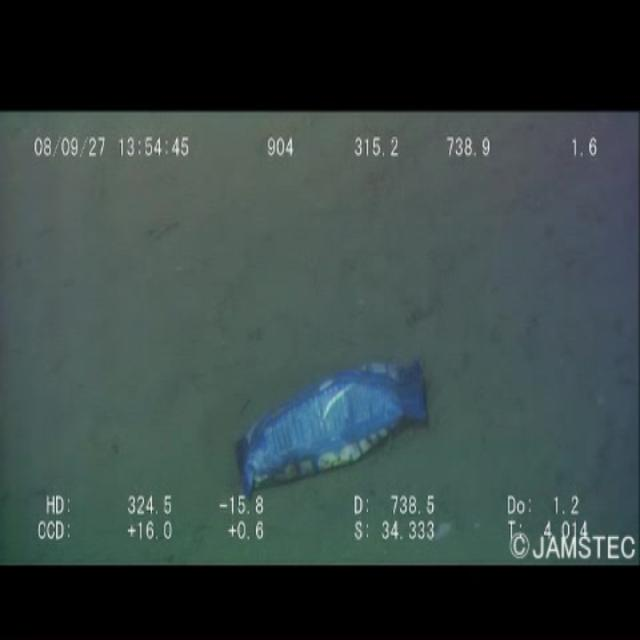Litter: (229, 322, 439, 496)
